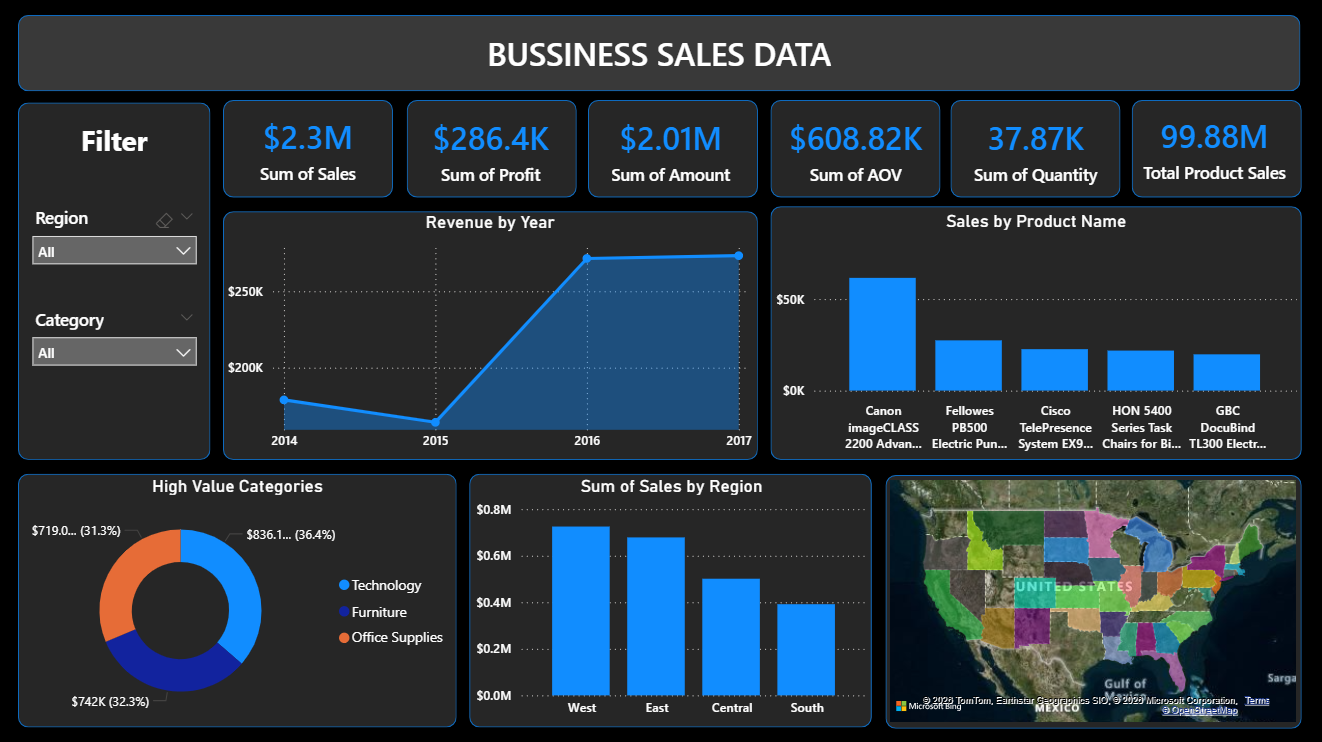

What the dashboard file says about the page in this screenshot:
{"tool":"powerbi","page":{"name":"Page 1","canvas":[1280,720],"ordinal":0},"visuals":[{"type":"shape","box":[19.3,98.9,185.8,345],"z":0},{"type":"shape","box":[569.4,96.5,164.1,94.1],"z":1000},{"type":"shape","box":[19.3,14.5,1237.8,73.6],"z":2000},{"type":"slicer","fields":{"Values":["Sample - Superstore.Region"]},"box":[22.9,194.2,178.6,96.5],"z":3000},{"type":"shape","box":[745.1,96.5,164.1,94.1],"z":4000},{"type":"shape","box":[217.2,96.5,164.1,94.1],"z":5000},{"type":"shape","box":[394.5,96.5,164.1,94.1],"z":6000},{"type":"shape","box":[217.2,203.7,516.4,240.1],"z":7000},{"type":"card","fields":{"Values":["Sum(Sample - Superstore.Sales)"]},"box":[217.2,96.5,164.1,94.1],"z":8000},{"type":"shape","box":[745.6,198.9,512.7,244.9],"z":9000},{"type":"shape","box":[919.8,96.5,164.1,94.1],"z":10000},{"type":"shape","box":[1094.5,96.5,164.1,94.1],"z":11000},{"type":"shape","box":[19.3,457.2,423.5,244.9],"z":12000},{"type":"shape","box":[455.4,457.2,388.5,244.9],"z":13000},{"type":"shape","box":[856.6,458.4,401.7,244.9],"z":14000},{"type":"areaChart","title":"Revenue by Year","fields":{"Category":["Sample - Superstore.Order Date.Variation.Date Hierarchy.Year","Sample - Superstore.Order Date.Variation.Date Hierarchy.Quarter","Sample - Superstore.Order Date.Variation.Date Hierarchy.Month","Sample - Superstore.Order Date.Variation.Date Hierarchy.Day"],"Y":["Sum(Sample - Superstore.Sales)"]},"box":[216.8,204.5,516,240.1],"z":15000},{"type":"columnChart","title":"Sales by Product Name","fields":{"Category":["Sample - Superstore.Product Name"],"Y":["Sum(Sample - Superstore.Sales)"]},"box":[745.1,203.1,513.2,241.5],"z":16000},{"type":"donutChart","title":"High Value Categories","fields":{"Category":["Sample - Superstore.Category"],"Y":["Sum(Sample - Superstore.Sales)"]},"box":[19.2,458.3,424,242.9],"z":17000},{"type":"columnChart","fields":{"Category":["Sample - Superstore.Region"],"Y":["Sum(Sample - Superstore.Sales)"]},"box":[455.6,458.3,388.3,242.9],"z":18000},{"type":"card","fields":{"Values":["Sum(Sample - Superstore.Profit)"]},"box":[393.8,98.8,164.7,91.9],"z":19000},{"type":"filledMap","title":"Profit by State","fields":{"Category":["Sample - Superstore.State"],"Series":["Sample - Superstore.City"]},"box":[856.3,458.3,400.7,242.9],"z":20000},{"type":"slicer","fields":{"Values":["Sample - Superstore.Category"]},"box":[22.9,292,178.6,97.7],"z":21000},{"type":"card","fields":{"Values":["Sum(Sample - Superstore.Quantity)"]},"box":[919.4,98.8,164.7,91.9],"z":22000},{"type":"card","fields":{"Values":["Sum(Sample - Superstore.AOV)"]},"box":[745.1,98.8,164.7,91.9],"z":23000},{"type":"card","fields":{"Values":["Sum(Sample - Superstore.Amount)"]},"box":[566.7,98.8,164.7,91.9],"z":24000},{"type":"card","fields":{"Values":["Sum(Sample - Superstore.Total Product Sales)"]},"box":[1092.3,96.1,164.7,91.9],"z":25000},{"type":"shape","box":[22.9,107.4,178.6,54.3],"z":26000}]}

Visuals, with their boxes in screenshot pixels (x1, y1, x2, y2), scaled from the page's 1280x720 canvas onto the 1322x742 screenshot:
shape: detection(20, 102, 212, 457)
shape: detection(588, 99, 758, 196)
shape: detection(20, 15, 1298, 91)
slicer - Sample - Superstore.Region: detection(24, 200, 208, 300)
shape: detection(770, 99, 939, 196)
shape: detection(224, 99, 394, 196)
shape: detection(407, 99, 577, 196)
shape: detection(224, 210, 758, 457)
card - Sum(Sample - Superstore.Sales): detection(224, 99, 394, 196)
shape: detection(770, 205, 1300, 457)
shape: detection(950, 99, 1119, 196)
shape: detection(1130, 99, 1300, 196)
shape: detection(20, 471, 457, 724)
shape: detection(470, 471, 872, 724)
shape: detection(885, 472, 1300, 725)
"Revenue by Year" areaChart: detection(224, 211, 757, 458)
"Sales by Product Name" columnChart: detection(770, 209, 1300, 458)
"High Value Categories" donutChart: detection(20, 472, 458, 723)
columnChart - Sample - Superstore.Region x Sum(Sample - Superstore.Sales): detection(471, 472, 872, 723)
card - Sum(Sample - Superstore.Profit): detection(407, 102, 577, 197)
"Profit by State" filledMap: detection(884, 472, 1298, 723)
slicer - Sample - Superstore.Category: detection(24, 301, 208, 402)
card - Sum(Sample - Superstore.Quantity): detection(950, 102, 1120, 197)
card - Sum(Sample - Superstore.AOV): detection(770, 102, 940, 197)
card - Sum(Sample - Superstore.Amount): detection(585, 102, 755, 197)
card - Sum(Sample - Superstore.Total Product Sales): detection(1128, 99, 1298, 194)
shape: detection(24, 111, 208, 167)
